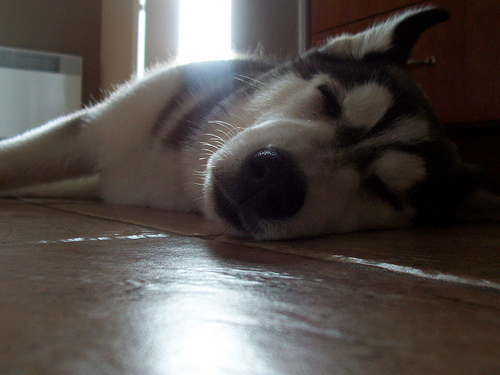dog: (1, 1, 499, 240)
